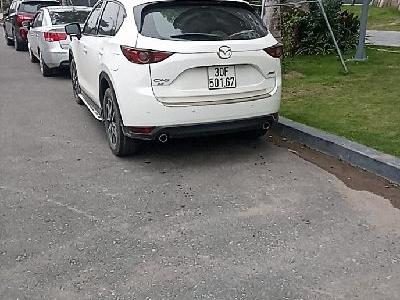car: (207, 65, 236, 89)
